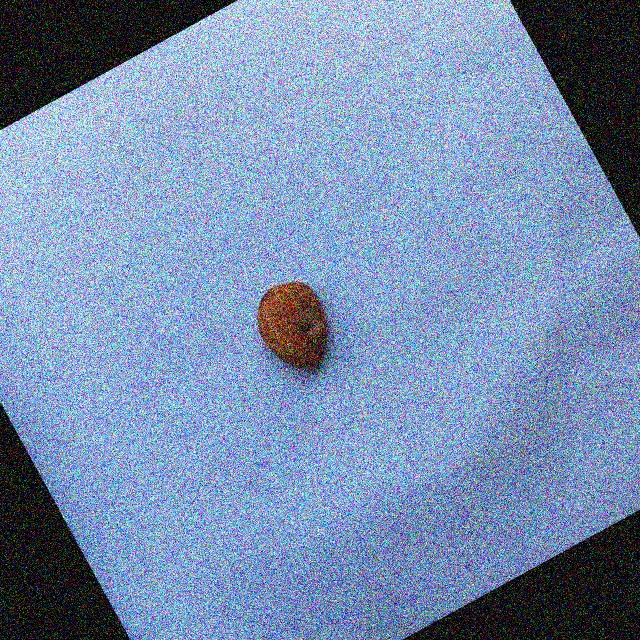grade3: (240, 265, 353, 387)
